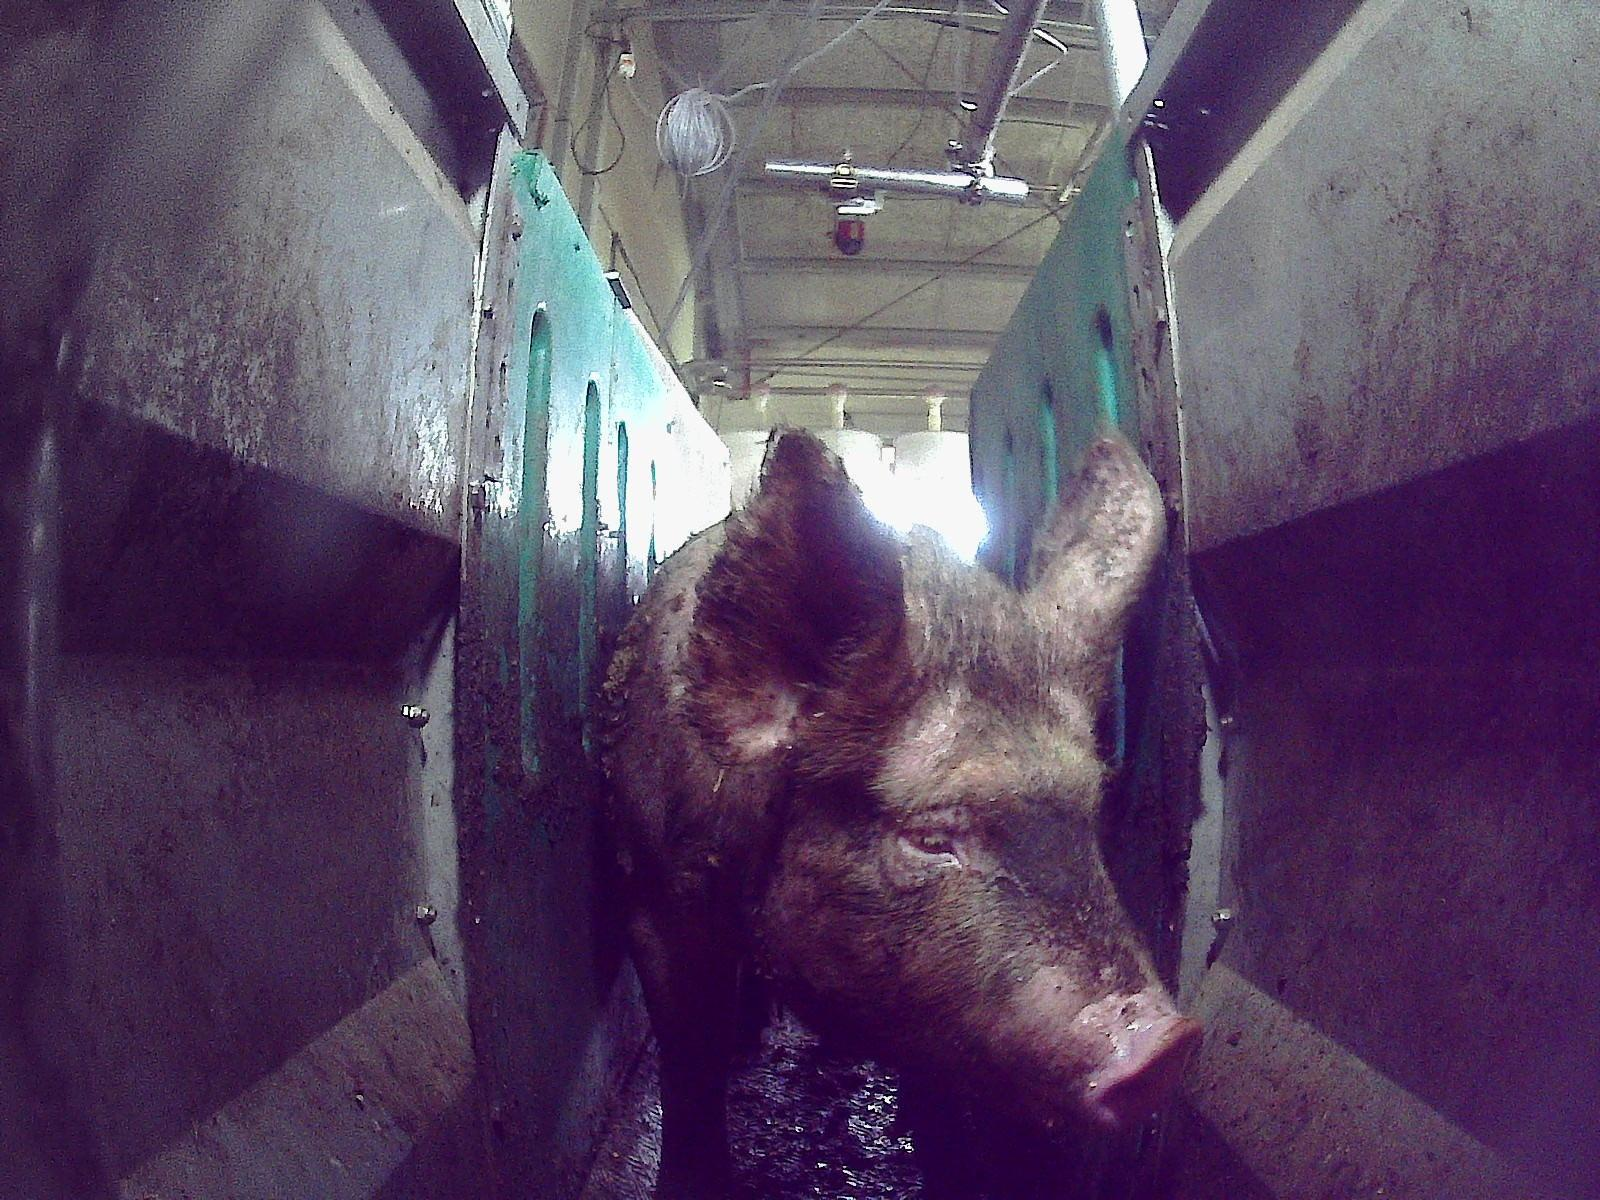Face: (771, 593, 1204, 1135)
